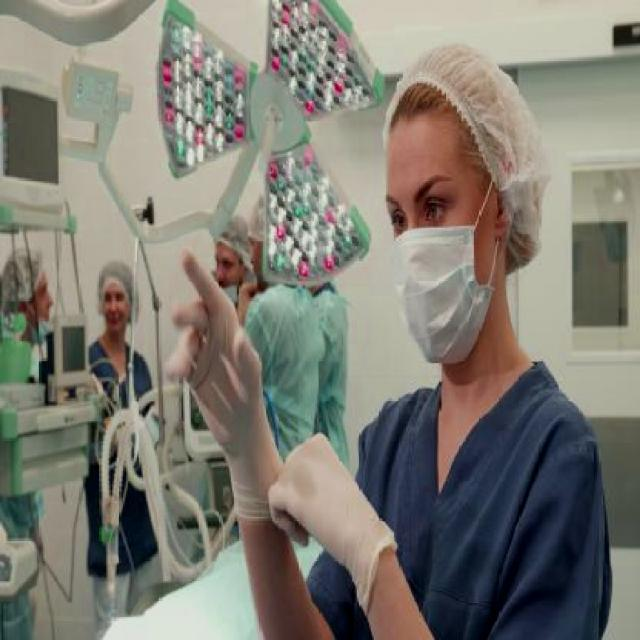face_mask: (390, 95, 516, 377)
face_nomask: (101, 291, 128, 329)
hand_glove: (165, 248, 263, 470), (268, 431, 366, 572)
head_nohelmet: (374, 40, 568, 165), (5, 252, 44, 297), (97, 262, 126, 296)
person: (269, 6, 637, 640), (80, 258, 157, 640)
